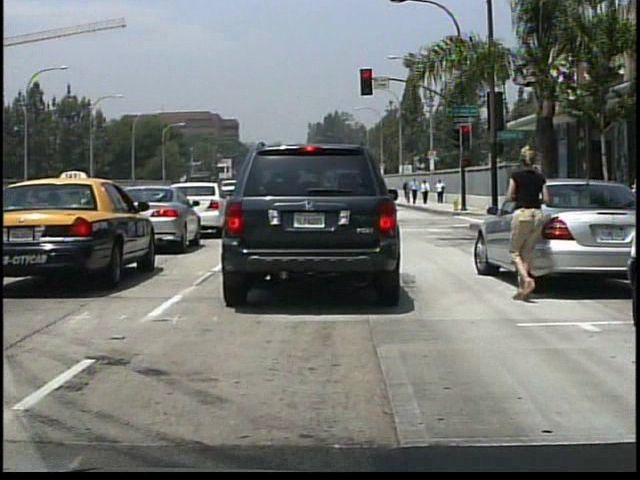person: (505, 133, 556, 308), (410, 177, 421, 205), (435, 177, 446, 204), (421, 178, 430, 205), (403, 179, 412, 201)
